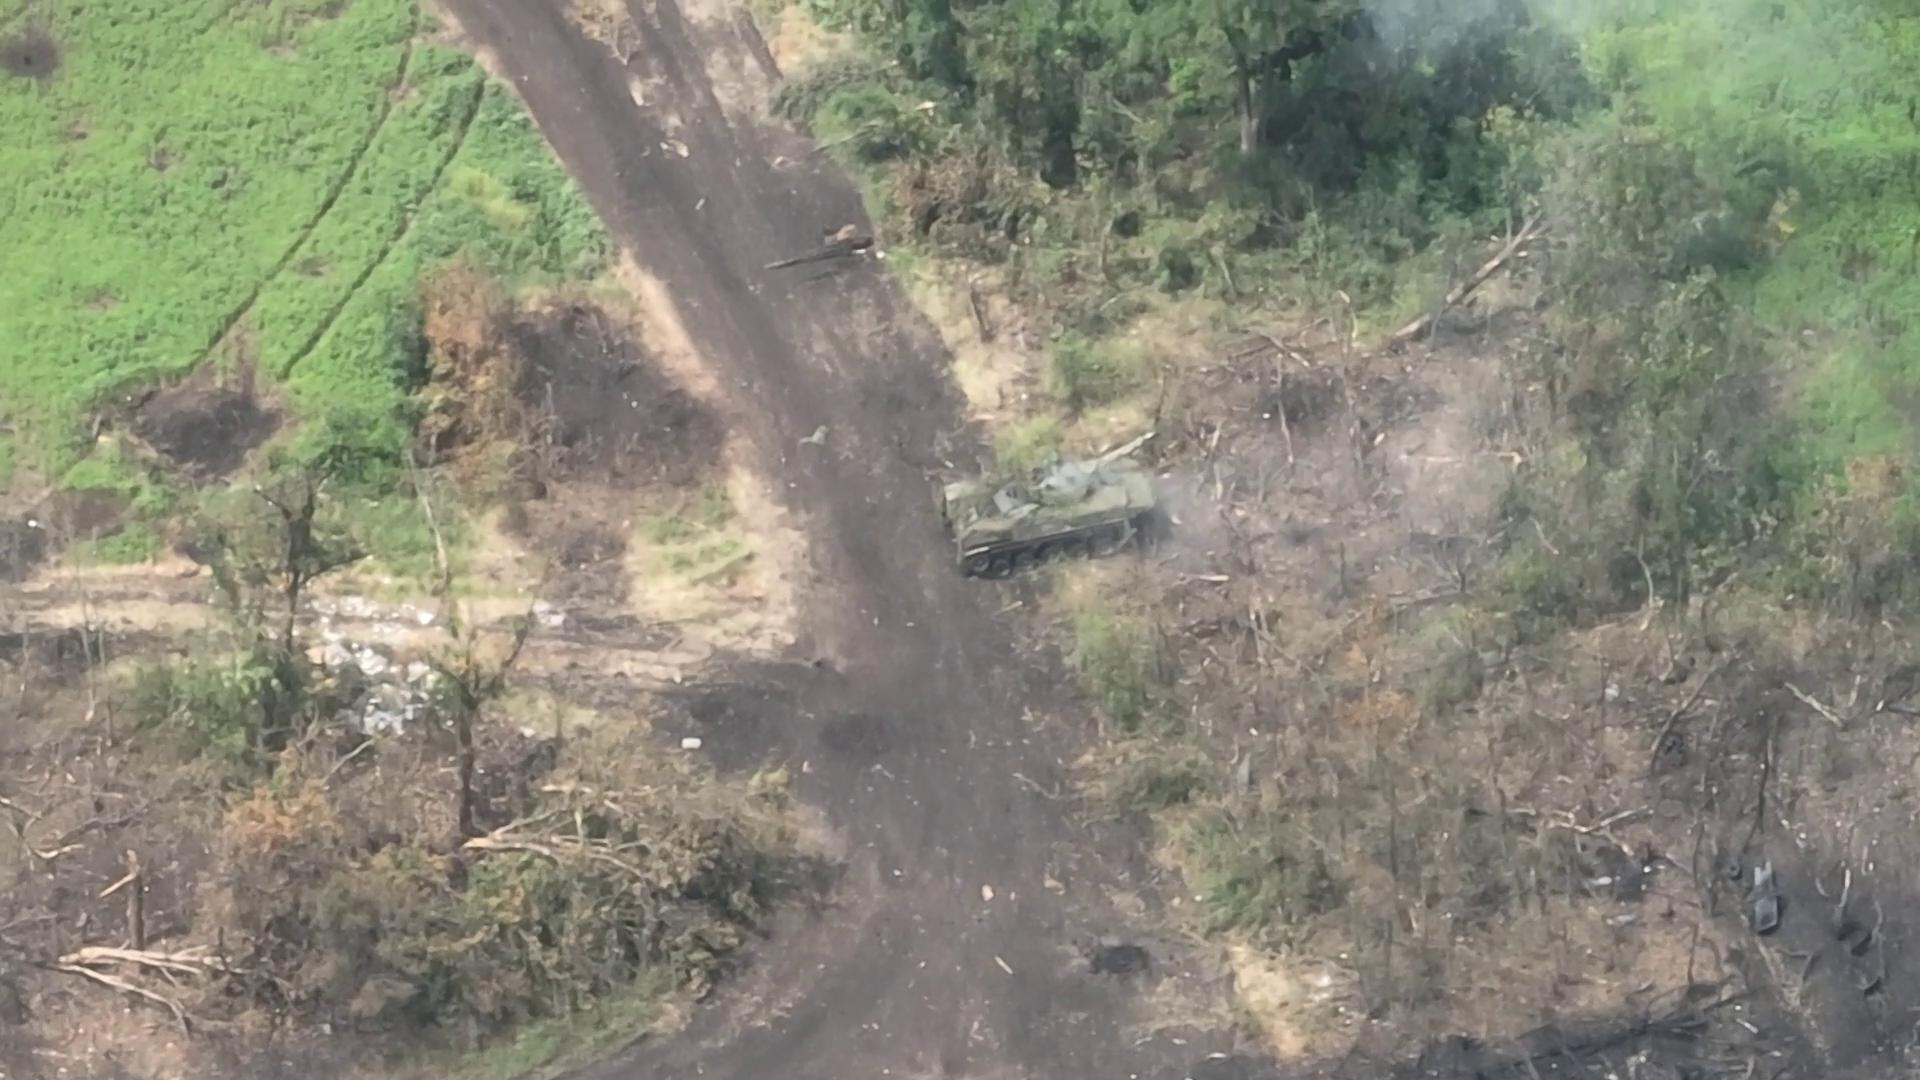tank: (928, 429, 1163, 582)
